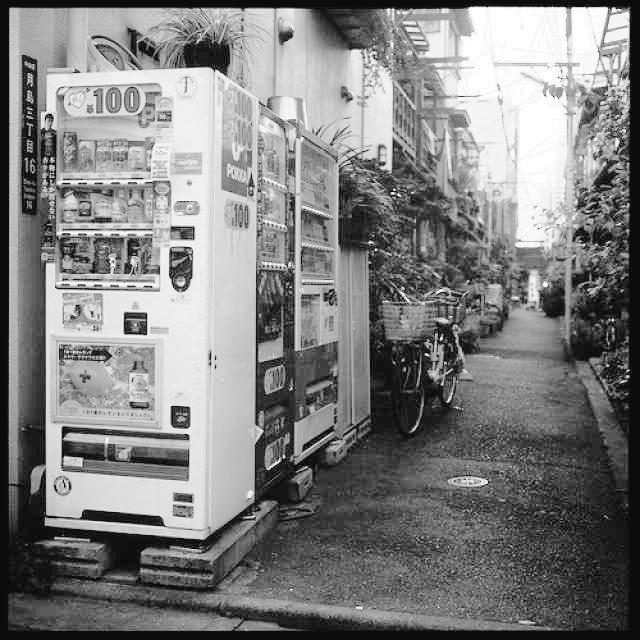Bicycle: (379, 278, 498, 427)
